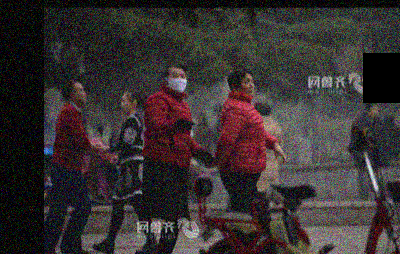with_mask: (167, 70, 188, 92)
without_mask: (237, 74, 256, 96), (75, 84, 88, 103), (119, 96, 132, 112)
